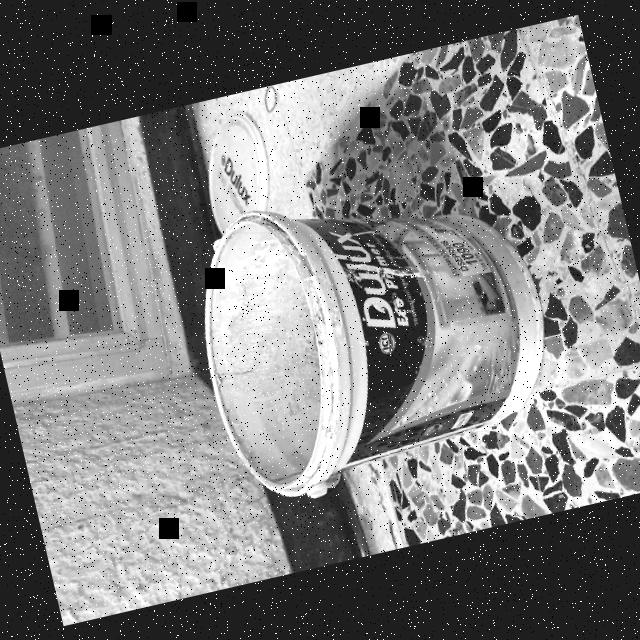paint_bucket: (173, 155, 567, 510)
